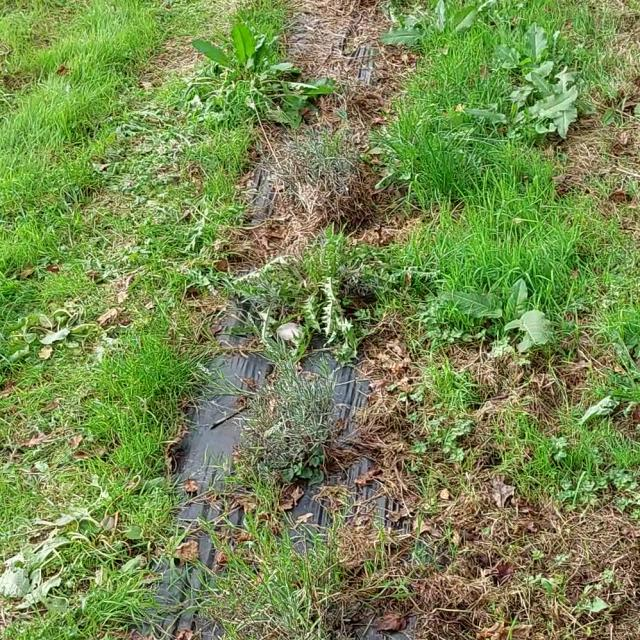organic waste: (169, 20, 334, 143), (439, 261, 565, 356), (389, 0, 494, 88)
